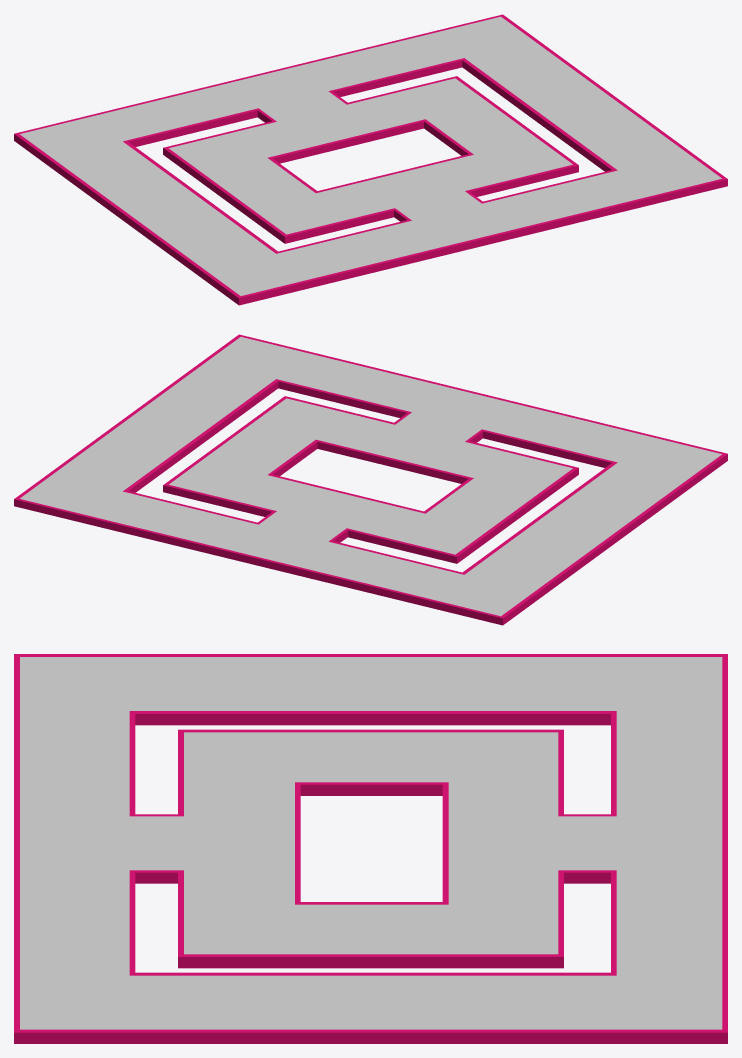
Rendered from RotatoMaze.fbx.
3 views of the same model, one above another, from view 1: azimuth 30°, elevation 25°; view 2: azimuth 150°, elevation 25°; view 3: azimuth 270°, elevation 25° (orthographic). The views are drawn at different scales.
Parts seen in each view (by area): view 1: Plane; view 2: Plane; view 3: Plane.
Boxes of the visible parts, x1,y1,x2,y2 form: Plane: (14,14,727,305); Plane: (14,334,727,625); Plane: (14,654,727,1043).
Bounding box in the file's own units: 7.4 × 0.1022 × 5.9.
